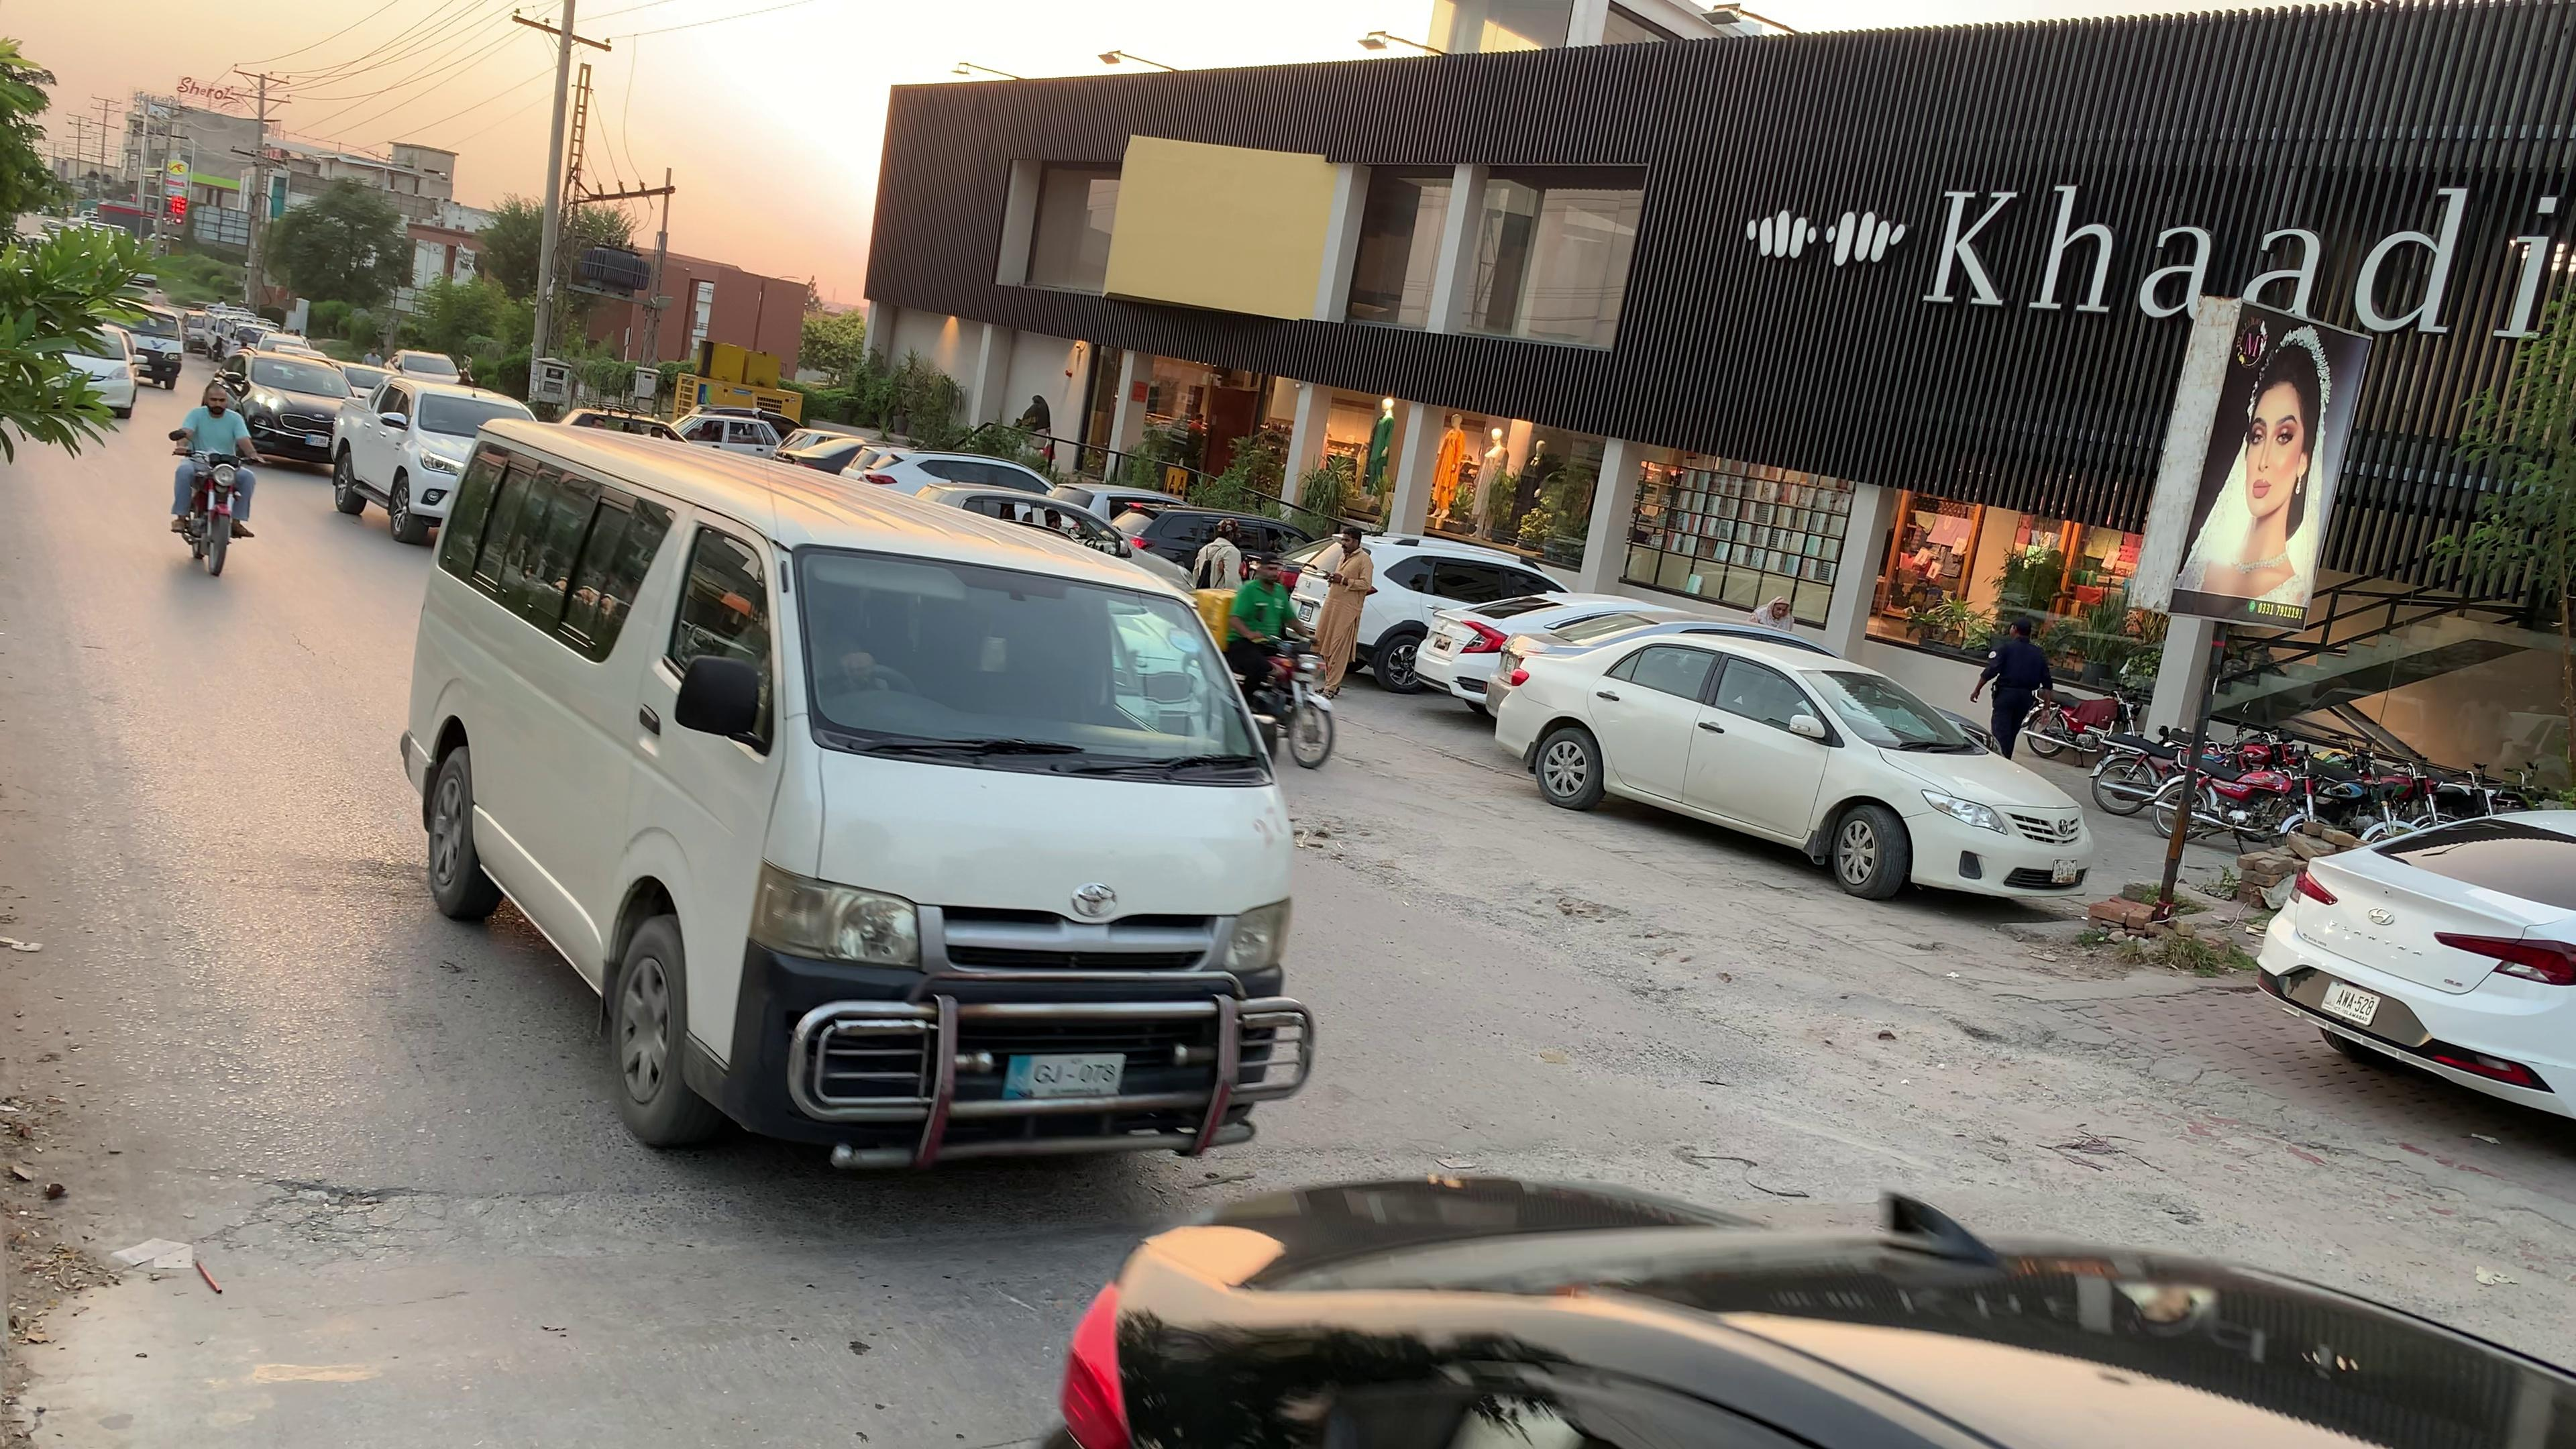windshield: (786, 540, 1292, 771)
